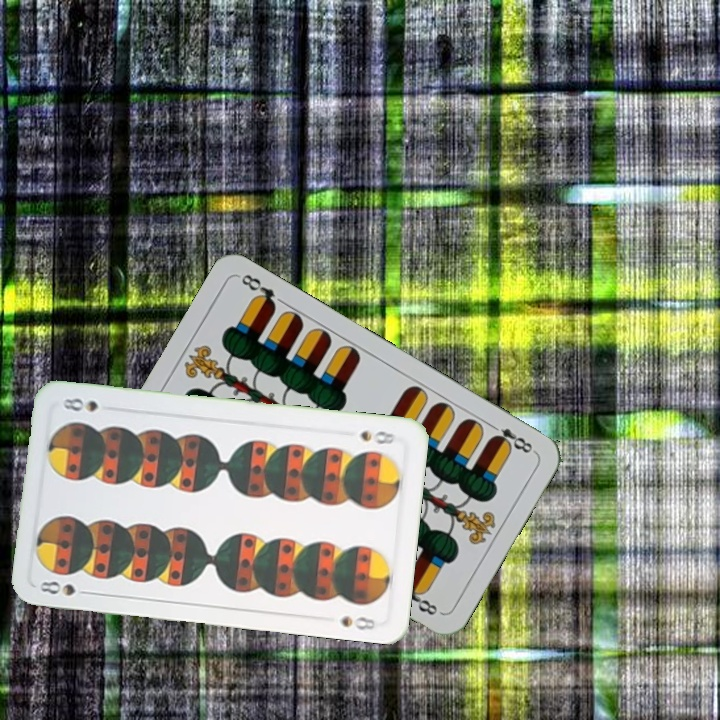E8: (485, 419, 538, 456)
S8: (36, 577, 94, 598), (355, 426, 402, 447)
